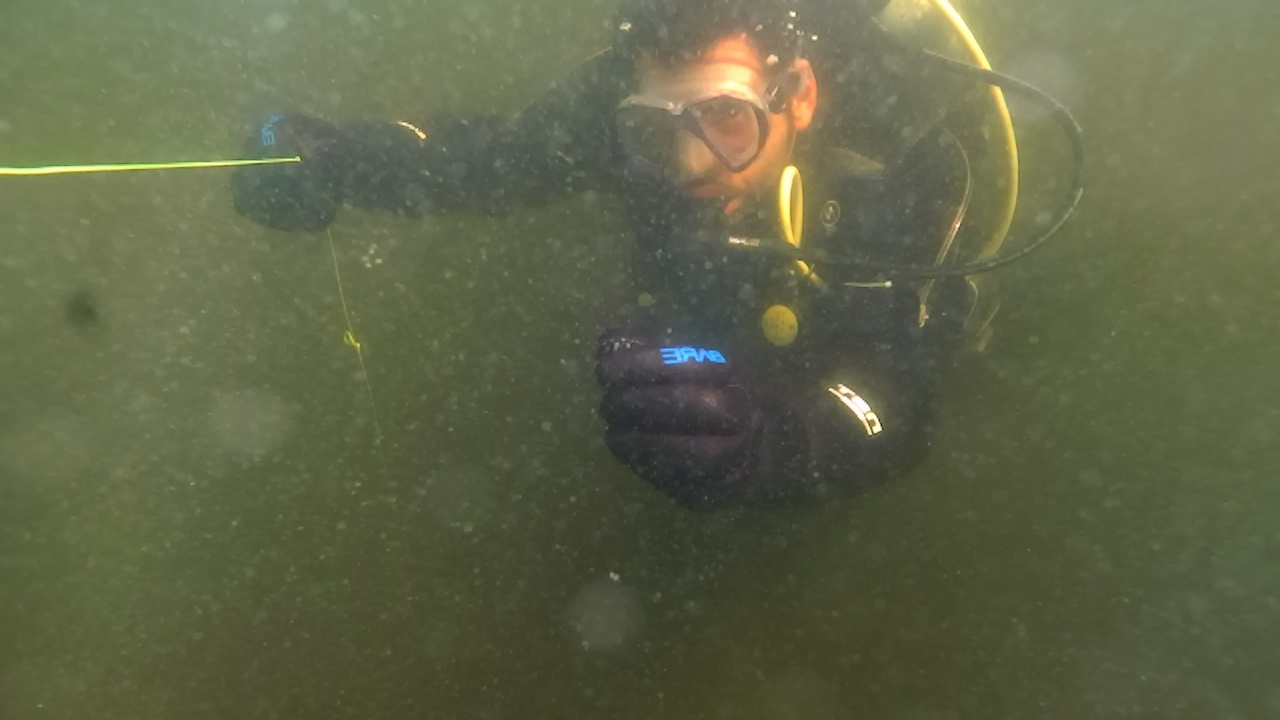Diver: (178, 2, 1112, 538)
Hand: (584, 304, 788, 526), (208, 104, 378, 244)
Head: (590, 4, 838, 288)
